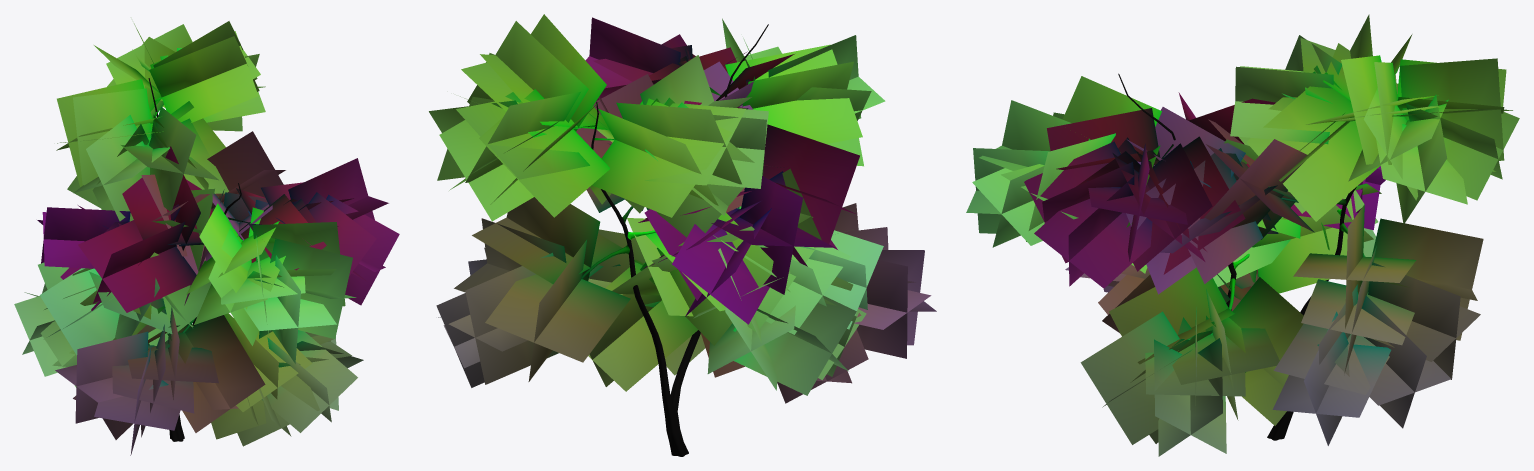
Rendered from URP_P14_Tree_6_LOD_0.fbx.
3 renders of one model, left to right at view 1: azimuth 30°, elevation 25°; view 2: azimuth 150°, elevation 25°; view 3: azimuth 270°, elevation 25°, orthographic. The views are drawn at different scales.
Visible parts, largest first — view 1: Tree_6_LOD_0; view 2: Tree_6_LOD_0; view 3: Tree_6_LOD_0.
Boxes of the visible parts, <box> form: Tree_6_LOD_0: <box>14,21,399,455</box>; Tree_6_LOD_0: <box>429,14,936,456</box>; Tree_6_LOD_0: <box>966,14,1519,456</box>.
Size of the model in its own units: 384 by 427 by 500.
